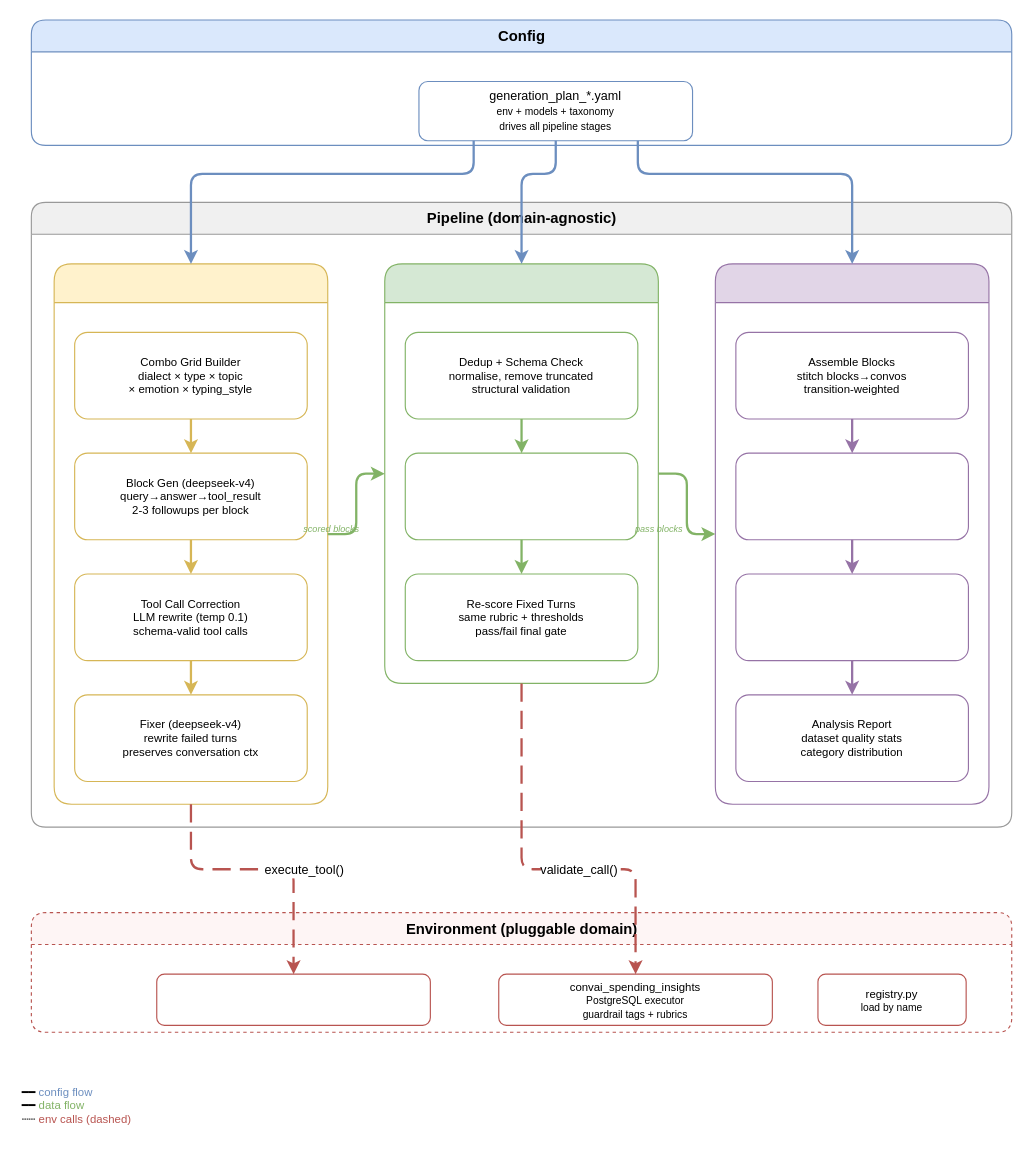
Some shapes in this 1032 by 1166 pixel diagram are drawn without their labels. The shapes that lost their labels are listed below. From the top down, each one's box as (x1, y1, x2, y2) in pixels, then its label:
(384, 263, 658, 683): Validator rubric scoring, mean≥8 pass gate
(404, 452, 638, 540): LLM Scorer (deepseek-v4) rubric judge, mean≥8 gate per-turn metric scoring
(735, 452, 968, 540): Split + Rebalance train/val/eval ratios tool:text ratio balance
(53, 263, 328, 804): Generator block pool via deepseek-v4-flash
(714, 263, 989, 804): Post-Processing assemble + split + analysis
(735, 573, 968, 661): Validate Structures flow check per convo drop invalid stitches
(156, 973, 430, 1025): Environment ABC ToolSpec + ToolBehavior execute / synthesize / determ
